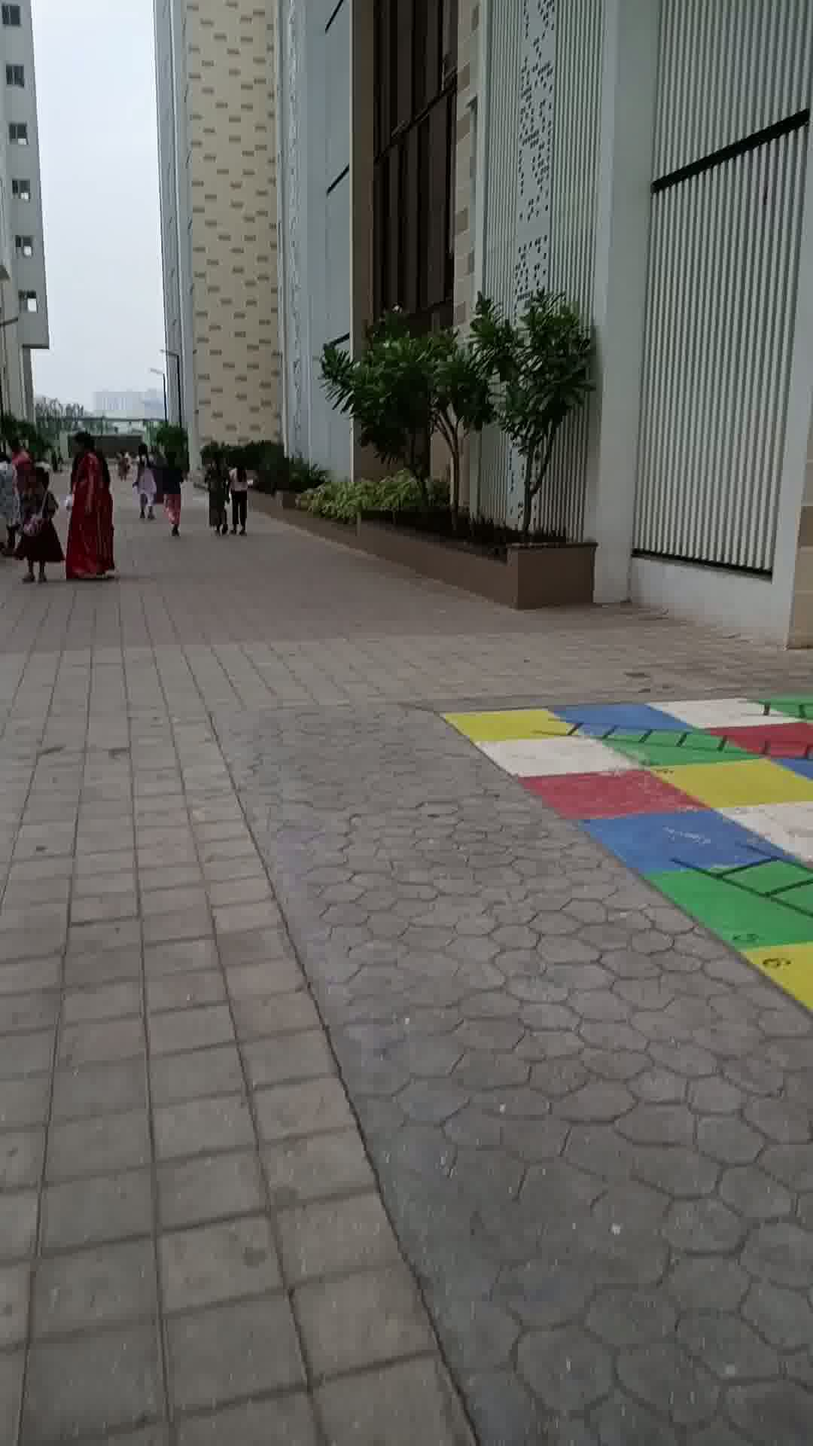person: (48, 399, 119, 593), (10, 458, 58, 582), (147, 420, 187, 541), (224, 441, 264, 548), (124, 426, 158, 528), (202, 437, 235, 540)
tree: (447, 265, 600, 581), (313, 287, 487, 547)
